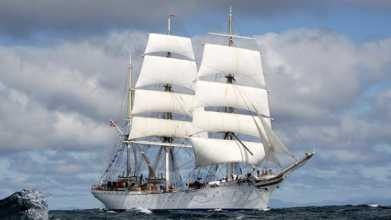fanchuan: (91, 8, 313, 212)
